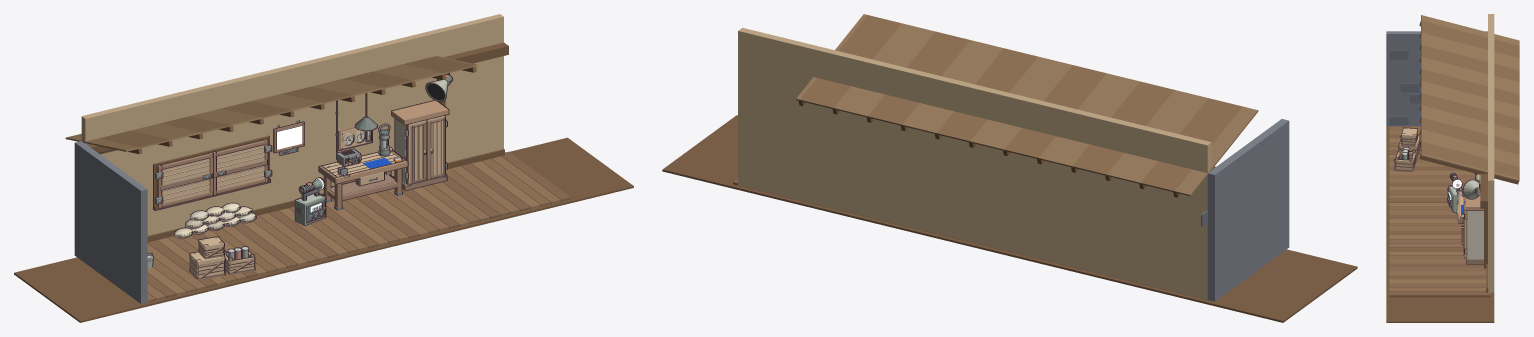
File: shelter.glb
3 renders of one model, left to right at view 1: azimuth 30°, elevation 25°; view 2: azimuth 150°, elevation 25°; view 3: azimuth 270°, elevation 25°, orthographic. The views are drawn at different scales.
Visible parts, largest first — view 1: back_wall, upper_wall, subfloor, left_wall, back_wall_ext, removable_door_panel_0010, removable_door_panel_0024, thick_top_cap_0006.001, ceiling_beam_ext, ceiling_panel_01, ceiling_panel_05, ceiling_panel_08 (+46 smaller); view 2: back_wall, upper_wall, left_wall, subfloor, back_wall_ext, ceiling_panel_03, ceiling_panel_06, ceiling_panel_09, ceiling_panel_01, ceiling_panel_07, ceiling_panel_02, ceiling_panel_05 (+5 smaller); view 3: subfloor, left_wall, upper_wall, ceiling_panel_06, ceiling_panel_10, ceiling_panel_03, ceiling_panel_01, ceiling_panel_09, ceiling_panel_07, ceiling_panel_02, ceiling_panel_04, ceiling_panel_08 (+50 smaller).
Part boxes in pixels (x1,y1,x2,y2): back_wall: [86, 77, 436, 235]; upper_wall: [81, 14, 503, 143]; subfloor: [14, 137, 633, 322]; left_wall: [74, 141, 147, 303]; back_wall_ext: [436, 41, 503, 162]; removable_door_panel_0010: [407, 119, 427, 184]; removable_door_panel_0024: [427, 115, 445, 180]; thick_top_cap_0006.001: [391, 100, 449, 125]; ceiling_beam_ext: [444, 42, 508, 63]; ceiling_panel_01: [80, 131, 170, 148]; ceiling_panel_05: [220, 101, 291, 118]; ceiling_panel_08: [311, 79, 383, 96]; back_wall: [814, 104, 1207, 299]; upper_wall: [738, 27, 1211, 172]; left_wall: [1207, 119, 1289, 301]; subfloor: [662, 115, 1357, 322]; back_wall_ext: [738, 58, 813, 203]; ceiling_panel_03: [1072, 81, 1174, 175]; ceiling_panel_06: [970, 57, 1072, 150]; ceiling_panel_09: [868, 31, 970, 125]; ceiling_panel_01: [1140, 98, 1242, 192]; ceiling_panel_07: [936, 48, 1038, 142]; ceiling_panel_02: [1106, 90, 1208, 183]; ceiling_panel_05: [1004, 65, 1106, 159]; subfloor: [1386, 126, 1494, 322]; left_wall: [1386, 31, 1487, 126]; upper_wall: [1488, 14, 1494, 200]; ceiling_panel_06: [1421, 81, 1519, 118]; ceiling_panel_10: [1421, 129, 1519, 166]; ceiling_panel_03: [1421, 45, 1519, 82]; ceiling_panel_01: [1421, 20, 1519, 57]; ceiling_panel_09: [1421, 117, 1519, 154]; ceiling_panel_07: [1421, 93, 1519, 130]; ceiling_panel_02: [1421, 32, 1519, 69]; ceiling_panel_04: [1421, 57, 1519, 94]; ceiling_panel_08: [1421, 105, 1519, 142].
Size of the model in its own units: 16.4 by 4.01 by 4.2.
Materials: 590 (1 with a texture image).
